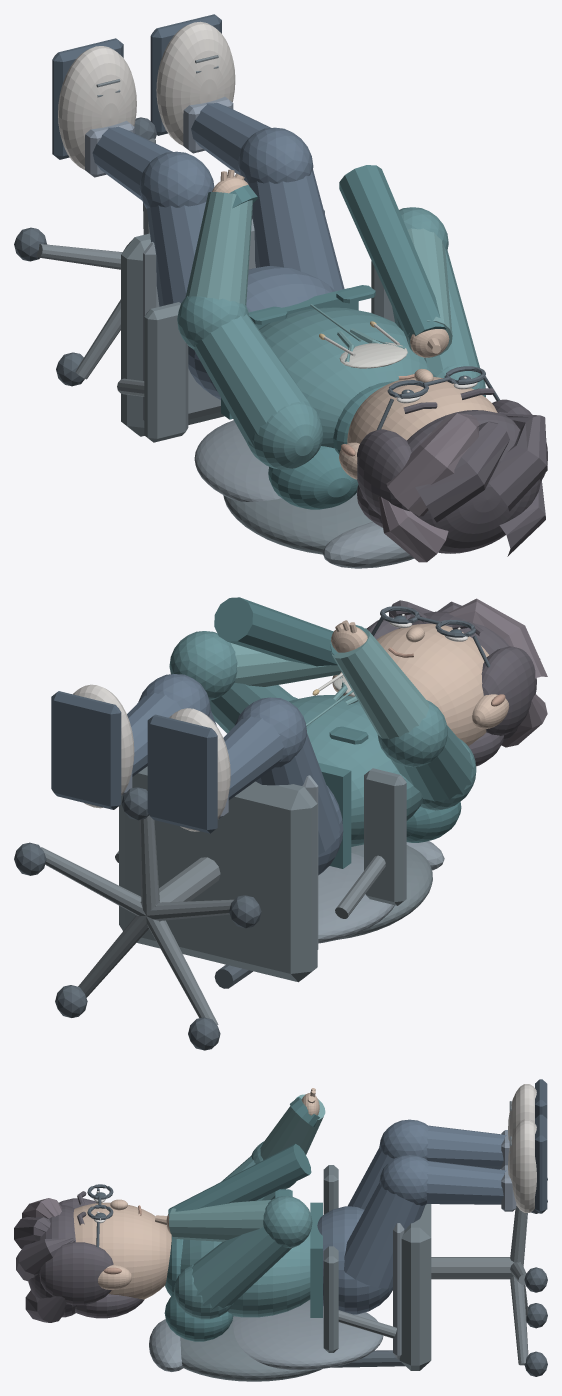
The model's file is 05_developer_thinking.glb.
The picture shows the model from 3 angles, top to bottom: view 1: azimuth 30°, elevation 25°; view 2: azimuth 150°, elevation 25°; view 3: azimuth 270°, elevation 25°; orthographic projection. The views are drawn at different scales.
Parts seen in each view (by area): view 1: 0022__hoodie_main_torso, 0101__ribbed_cuff, 0089__sleeve_upper, 0078__jeans_thigh, 0082__sneaker, 0072__sneaker, 0019__armrest_cushion, 0091__sleeve_forearm, 0044__hair_crown, 0015__backrest_upper, 0039__face_head, 0014__lumbar_support (+34 smaller); view 2: 0011__chair_base_seat, 0073__rubber_sole, 0083__rubber_sole, 0039__face_head, 0022__hoodie_main_torso, 0091__sleeve_forearm, 0101__ribbed_cuff, 0019__armrest_cushion, 0014__lumbar_support, 0046__temple_side, 0070__jeans_shin, 0099__elbow_fold (+36 smaller); view 3: 0014__lumbar_support, 0039__face_head, 0011__chair_base_seat, 0098__sleeve_upper, 0078__jeans_thigh, 0022__hoodie_main_torso, 0101__ribbed_cuff, 0015__backrest_upper, 0047__temple_side, 0100__sleeve_forearm, 0036__pants_pelvis, 0080__jeans_shin (+35 smaller).
Part boxes in pixels (x1,y1,x2,y2): 0022__hoodie_main_torso: [259, 307, 429, 448]; 0101__ribbed_cuff: [339, 165, 446, 347]; 0089__sleeve_upper: [193, 314, 308, 447]; 0078__jeans_thigh: [248, 170, 344, 291]; 0082__sneaker: [156, 21, 235, 145]; 0072__sneaker: [58, 46, 136, 169]; 0019__armrest_cushion: [144, 302, 188, 442]; 0091__sleeve_forearm: [185, 192, 252, 305]; 0044__hair_crown: [407, 410, 540, 553]; 0015__backrest_upper: [223, 493, 372, 554]; 0039__face_head: [347, 377, 497, 443]; 0014__lumbar_support: [194, 420, 281, 501]; 0011__chair_base_seat: [119, 766, 317, 982]; 0073__rubber_sole: [147, 714, 217, 833]; 0083__rubber_sole: [51, 691, 121, 809]; 0039__face_head: [343, 623, 489, 745]; 0022__hoodie_main_torso: [289, 695, 422, 846]; 0091__sleeve_forearm: [331, 628, 428, 739]; 0101__ribbed_cuff: [214, 597, 337, 666]; 0019__armrest_cushion: [364, 768, 406, 905]; 0014__lumbar_support: [318, 853, 394, 943]; 0046__temple_side: [481, 646, 536, 735]; 0070__jeans_shin: [223, 716, 283, 800]; 0099__elbow_fold: [169, 631, 237, 700]; 0014__lumbar_support: [233, 1300, 383, 1369]; 0039__face_head: [73, 1202, 171, 1299]; 0011__chair_base_seat: [399, 1204, 431, 1370]; 0098__sleeve_upper: [192, 1227, 291, 1310]; 0078__jeans_thigh: [344, 1183, 425, 1288]; 0022__hoodie_main_torso: [180, 1232, 310, 1317]; 0101__ribbed_cuff: [168, 1144, 311, 1216]; 0015__backrest_upper: [180, 1316, 321, 1381]; 0047__temple_side: [39, 1242, 113, 1305]; 0100__sleeve_forearm: [169, 1200, 270, 1241]; 0036__pants_pelvis: [317, 1206, 392, 1314]; 0080__jeans_shin: [426, 1161, 506, 1204].
Size of the model in its own units: 0.792 by 1.01 by 1.85.
